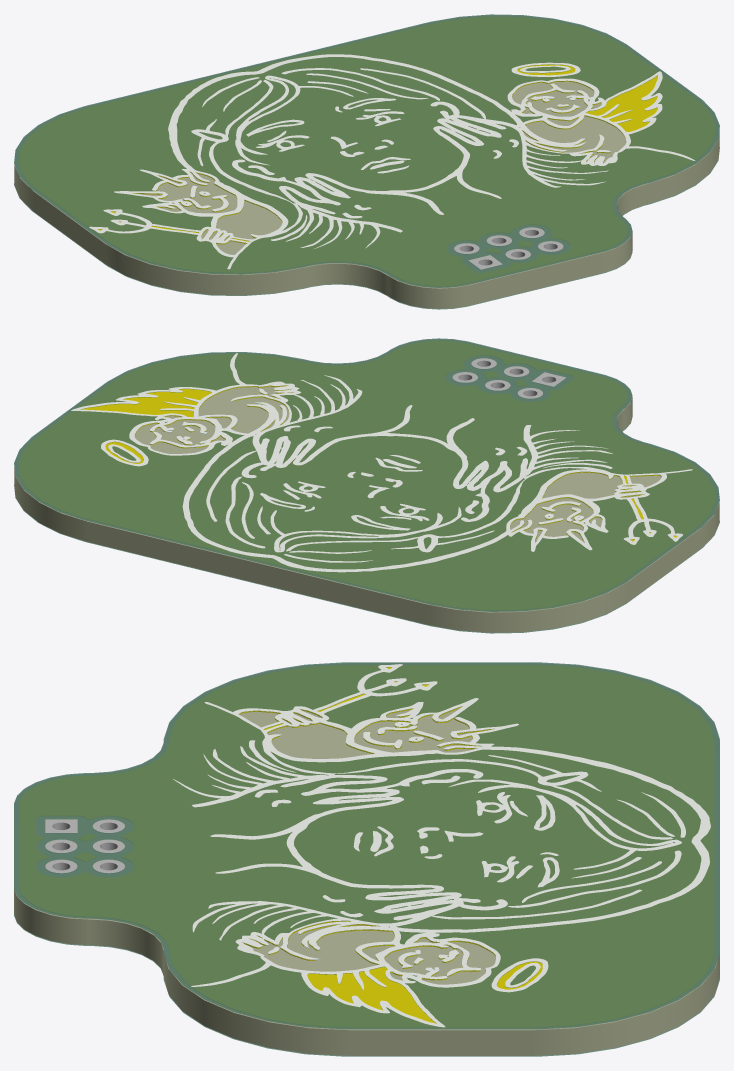
File: offzone-2025-angel-and-devil-add-on.glb
3 renders of one model, top to bottom at view 1: azimuth 30°, elevation 25°; view 2: azimuth 150°, elevation 25°; view 3: azimuth 270°, elevation 25°, orthographic. The views are drawn at different scales.
Parts seen in each view (by area): view 1: =>[0:1:1:6], =>[0:1:1:2], =>[0:1:1:8], =>[0:1:1:4]; view 2: =>[0:1:1:6], =>[0:1:1:2], =>[0:1:1:8], =>[0:1:1:4]; view 3: =>[0:1:1:6], =>[0:1:1:2], =>[0:1:1:8], =>[0:1:1:4].
Part boxes in pixels (bbox=[...]): =>[0:1:1:6]: bbox=[14, 14, 719, 309]; =>[0:1:1:2]: bbox=[19, 17, 714, 285]; =>[0:1:1:8]: bbox=[14, 16, 719, 308]; =>[0:1:1:4]: bbox=[89, 54, 695, 269]; =>[0:1:1:6]: bbox=[14, 338, 719, 633]; =>[0:1:1:2]: bbox=[19, 341, 714, 609]; =>[0:1:1:8]: bbox=[14, 339, 719, 632]; =>[0:1:1:4]: bbox=[71, 353, 692, 572]; =>[0:1:1:6]: bbox=[14, 662, 719, 1056]; =>[0:1:1:2]: bbox=[20, 665, 713, 1027]; =>[0:1:1:8]: bbox=[14, 663, 719, 1055]; =>[0:1:1:4]: bbox=[173, 664, 710, 1027].
Bounding box in the file's own units: 0.0464 × 0.00166 × 0.0377.
4 materials, 4 textured.
